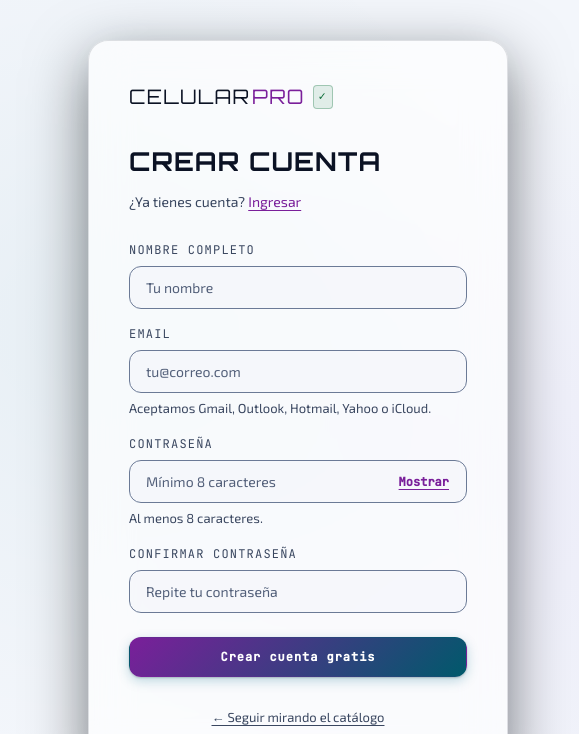
Test case: Registro — POST /auth/register › datos inválidos → el formulario los frena y no llega al backend
Type "M" into the field labelled "Nombre completo" at point(298, 288), box [129,266,467,309]
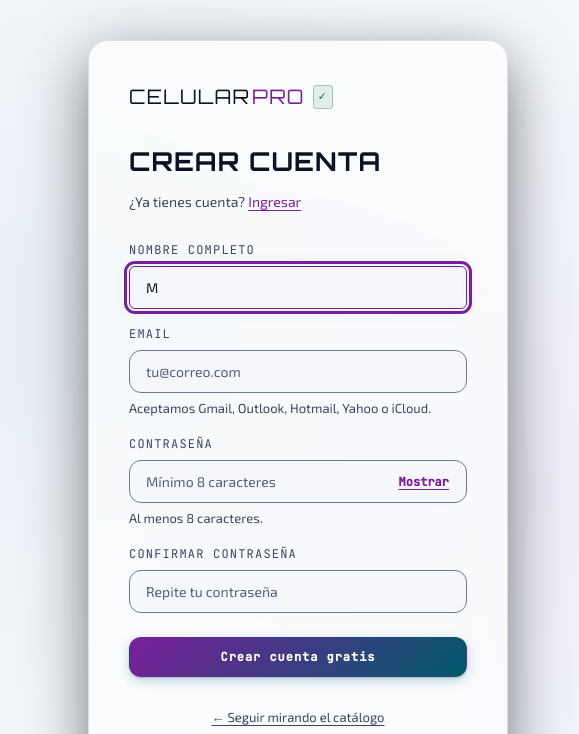
Type "mario@gmail.com" into the field labelled "Email" at point(298, 372), box [129,350,467,393]
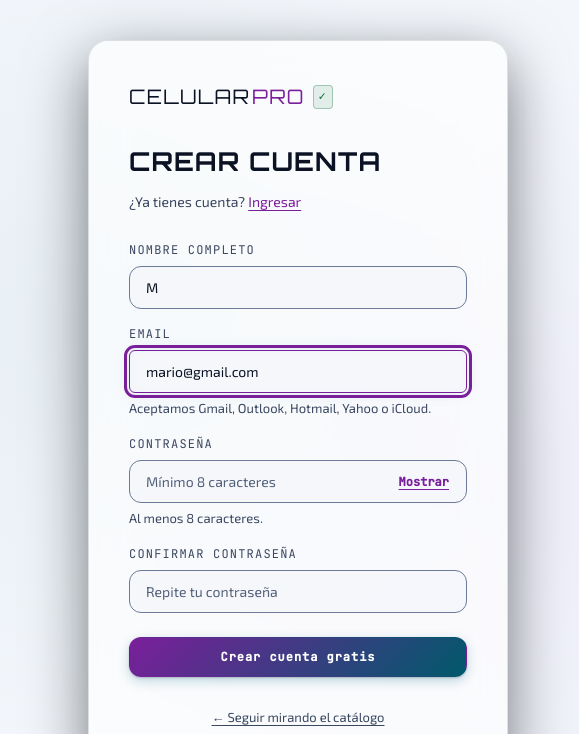
Type "corta" into the password field labelled "Contraseña" at point(298, 482), box [129,460,467,503]
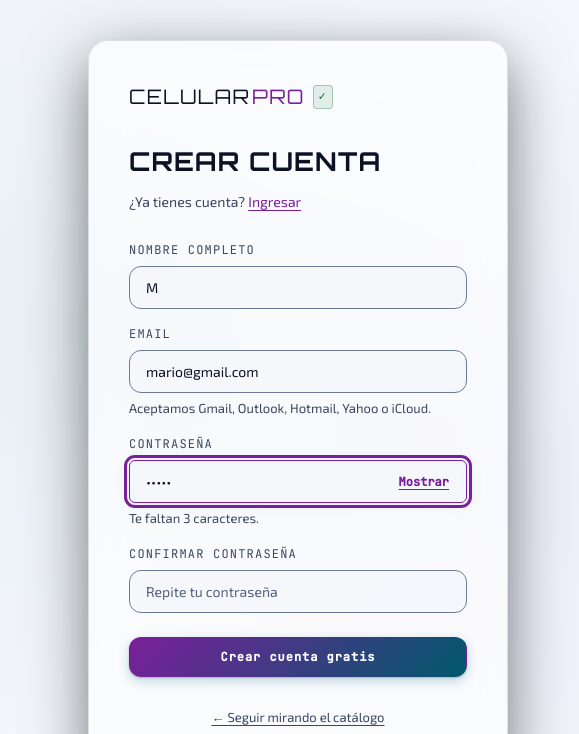
Type "otra" into the password field labelled "Confirmar contraseña" at point(298, 591), box [129,570,467,613]
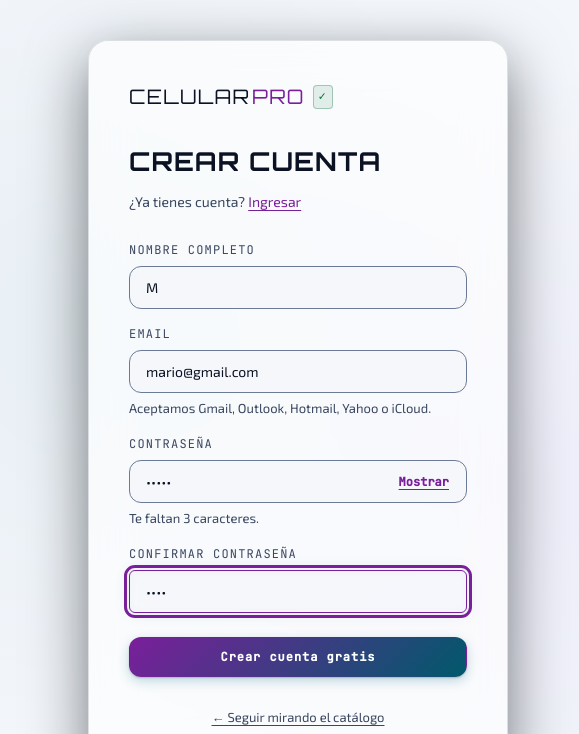
Click the button "Crear cuenta gratis" at point(298, 657), box [129,637,467,677]
(page scrolled)
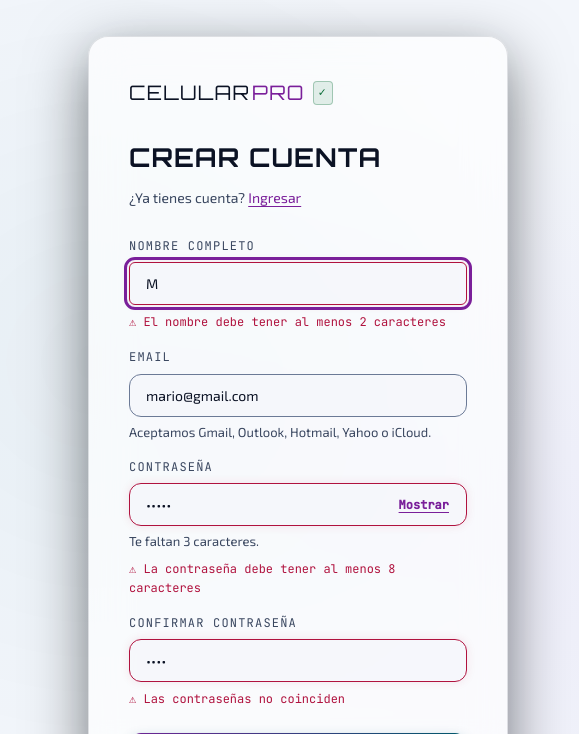
Check: the text "El nombre debe tener al menos 2 caracteres" is shown, box [129,313,467,332]
Check: the text "La contraseña debe tener al menos 8 caracteres" is shown, box [129,561,396,596]
Check: the text "Las contraseñas no coinciden" is shown, box [143,691,345,707]
